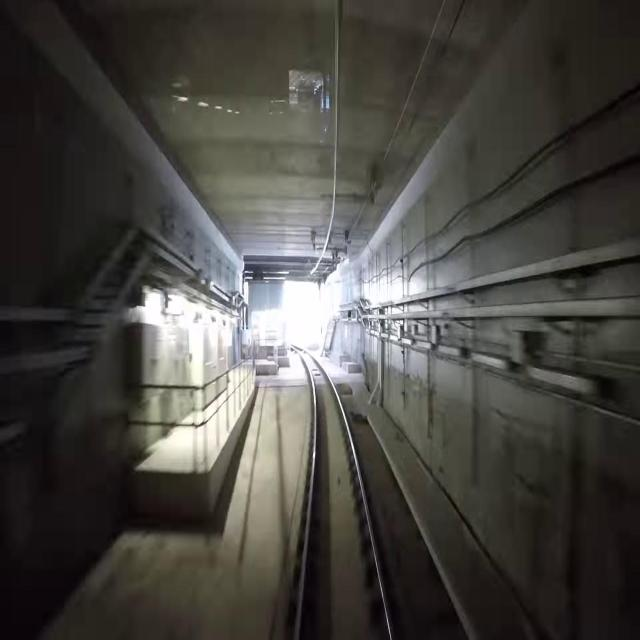rail-track: (299, 353, 389, 639)
